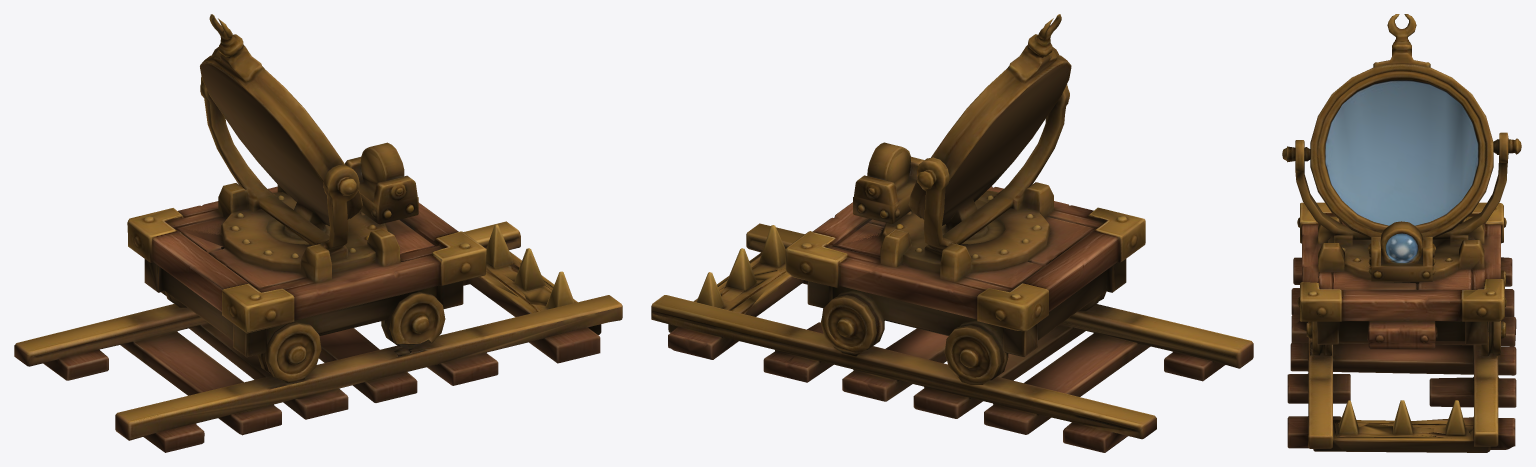
The model's file is rail.glb.
The picture shows the model from 3 angles, left to right: view 1: azimuth 30°, elevation 25°; view 2: azimuth 150°, elevation 25°; view 3: azimuth 270°, elevation 25°; orthographic projection. The views are drawn at different scales.
Parts seen in each view (by area): view 1: tripo_node_6146d214-3953-4734-bb04-657ae2076e6d; view 2: tripo_node_6146d214-3953-4734-bb04-657ae2076e6d; view 3: tripo_node_6146d214-3953-4734-bb04-657ae2076e6d.
Part boxes in pixels (x1,y1,x2,y2): tripo_node_6146d214-3953-4734-bb04-657ae2076e6d: [14, 14, 622, 452]; tripo_node_6146d214-3953-4734-bb04-657ae2076e6d: [651, 14, 1253, 452]; tripo_node_6146d214-3953-4734-bb04-657ae2076e6d: [1282, 14, 1521, 452].
Size of the model in its own units: 1 by 0.7006 by 0.499.
1 material, 1 textured.
